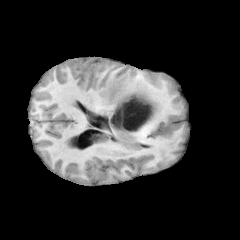glioma: (86, 71, 156, 143)
